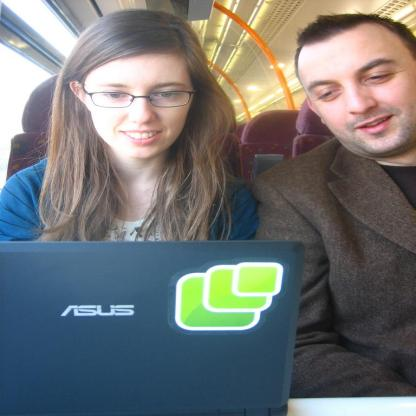board: (0, 242, 304, 416)
